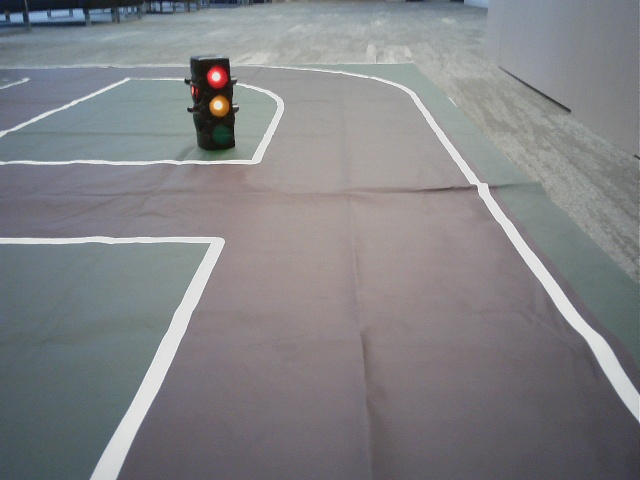red: (201, 60, 232, 148)
